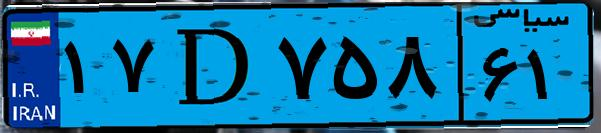1: (57, 26, 110, 100), (525, 38, 570, 115)
5: (330, 28, 385, 110)
6: (475, 38, 525, 113)
7: (270, 28, 330, 110), (110, 28, 158, 98)
8: (385, 28, 445, 110)
D: (158, 12, 270, 120)
